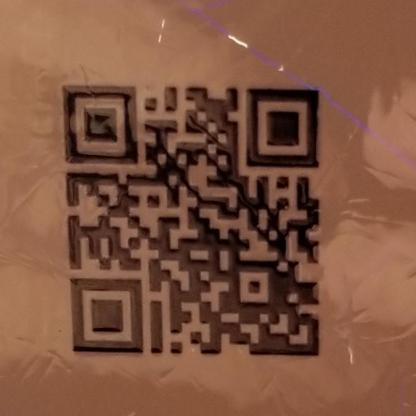qr: (58, 77, 326, 361)
